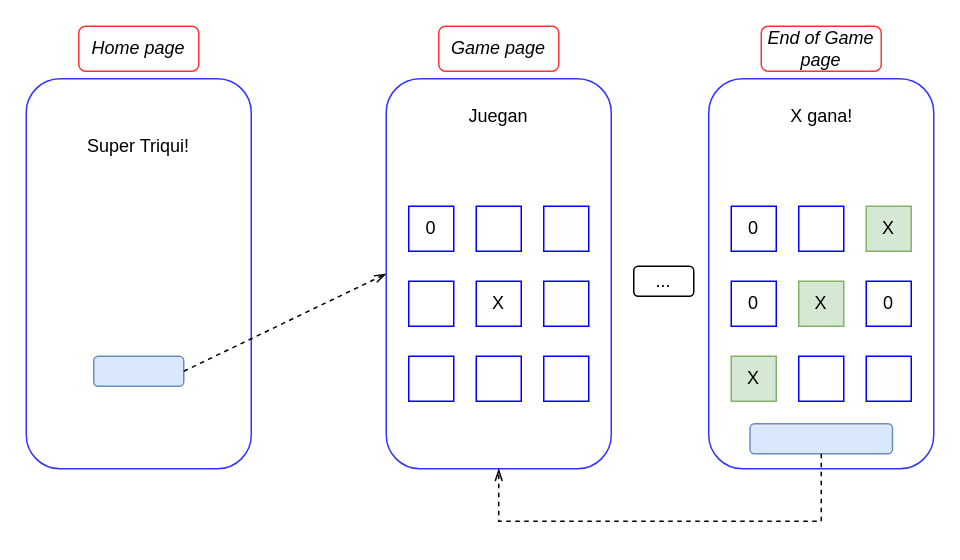
Some shapes in this 960 by 560 pixel diagram are drawn without their labels. Here are the shapes that lost their labels. From the top down, the centre of each, then its label:
the point at 138,370: Jugar!
the point at 820,438: Jugar denuevo
